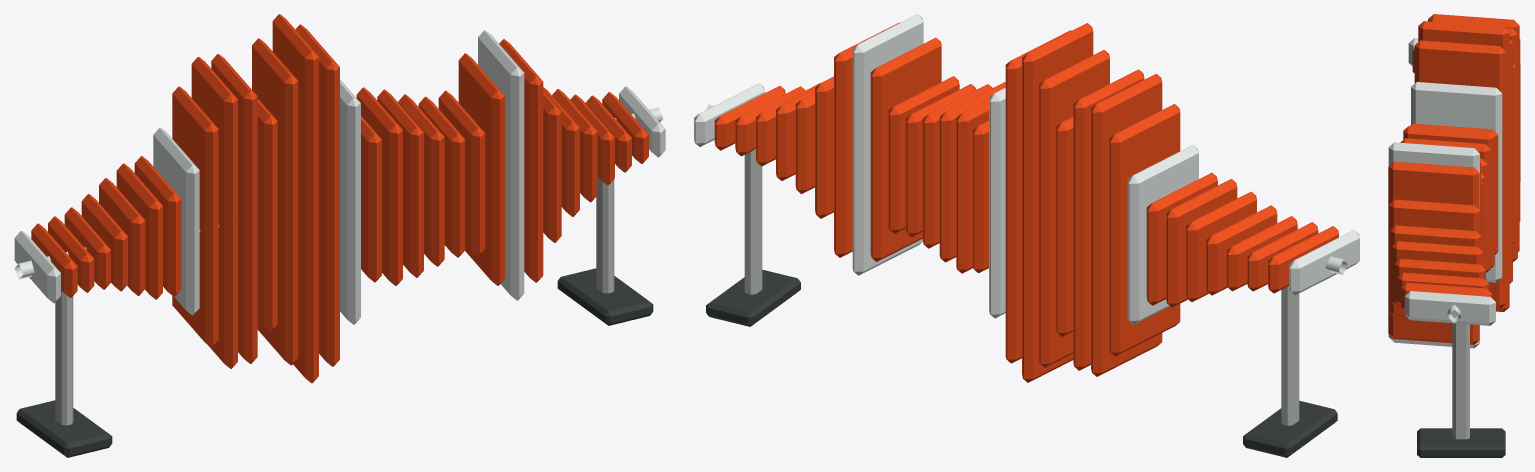
The model's file is burnos.glb.
The picture shows the model from 3 angles, left to right: view 1: azimuth 30°, elevation 25°; view 2: azimuth 150°, elevation 25°; view 3: azimuth 270°, elevation 25°; orthographic projection. The views are drawn at different scales.
Visible parts, largest first — view 1: Wave05, Wave04, Wave06, Wave09, Wave08, Wave07, Stand, Wave03, Wave02, Wave10, Wave01, Wave11; view 2: Wave04, Wave05, Wave09, Wave08, Wave06, Stand, Wave03, Wave07, Wave02, Wave01, Wave10, Wave11; view 3: Wave06, Wave09, Wave10, Stand, Wave11, Wave05, Wave07, Wave04, Wave08, Wave01.
Boxes of the visible parts, bbox=[...] form: Wave05: bbox=[252, 14, 318, 383]; Wave04: bbox=[172, 54, 257, 368]; Wave06: bbox=[295, 24, 381, 366]; Wave09: bbox=[478, 30, 561, 300]; Wave08: bbox=[418, 53, 504, 285]; Wave07: bbox=[356, 87, 444, 285]; Stand: bbox=[14, 107, 663, 457]; Wave03: bbox=[116, 127, 199, 315]; Wave02: bbox=[64, 178, 145, 295]; Wave10: bbox=[543, 87, 614, 216]; Wave01: bbox=[14, 216, 94, 303]; Wave11: bbox=[585, 86, 665, 172]; Wave04: bbox=[1073, 69, 1180, 376]; Wave05: bbox=[1022, 23, 1109, 382]; Wave09: bbox=[815, 14, 923, 275]; Wave08: bbox=[870, 37, 976, 261]; Wave06: bbox=[972, 30, 1071, 363]; Stand: bbox=[706, 104, 1347, 457]; Wave03: bbox=[1127, 145, 1237, 324]; Wave07: bbox=[922, 82, 1005, 273]; Wave02: bbox=[1186, 191, 1297, 301]; Wave01: bbox=[1247, 222, 1359, 295]; Wave10: bbox=[756, 83, 820, 193]; Wave11: bbox=[694, 83, 805, 156]; Wave06: bbox=[1410, 40, 1505, 308]; Wave09: bbox=[1388, 142, 1480, 348]; Wave10: bbox=[1390, 225, 1485, 307]; Stand: bbox=[1417, 305, 1505, 457]; Wave11: bbox=[1397, 272, 1495, 325]; Wave05: bbox=[1418, 21, 1515, 311]; Wave07: bbox=[1400, 126, 1494, 272]; Wave04: bbox=[1428, 14, 1520, 261]; Wave08: bbox=[1480, 161, 1484, 268]; Wave01: bbox=[1408, 38, 1418, 73].
Size of the model in its own units: 4.66 by 2.4 by 0.9713.
